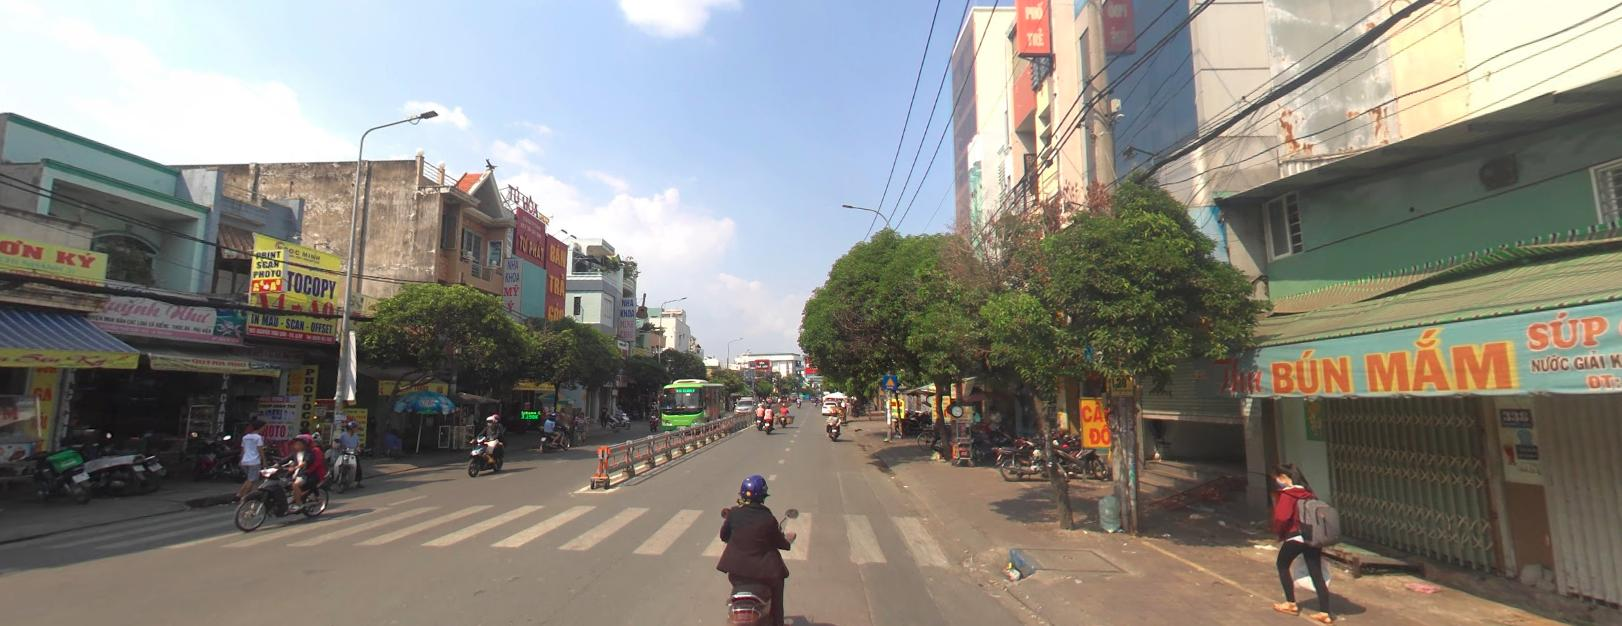Nguy hiem: (885, 376, 894, 384)
